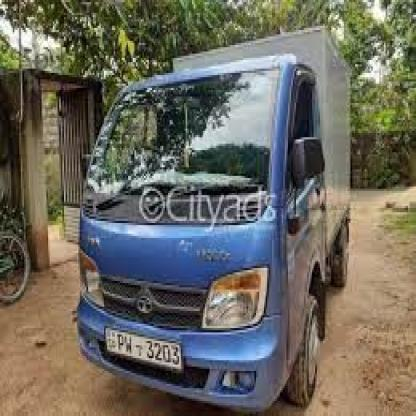Lorry front: (70, 24, 352, 415)
number plate: (103, 327, 185, 374)
